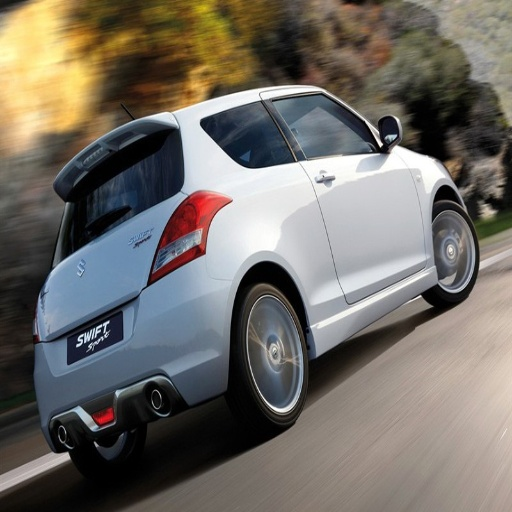back_bumper: (38, 257, 235, 436)
back_right_door: (250, 93, 380, 325)
tailgate: (75, 206, 162, 289), (41, 291, 90, 338)
trunk: (41, 215, 169, 363)
